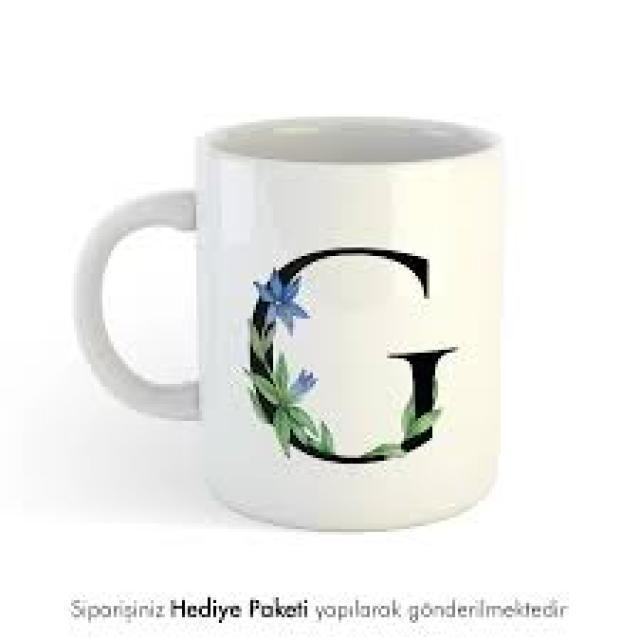taza: (72, 116, 505, 534)
